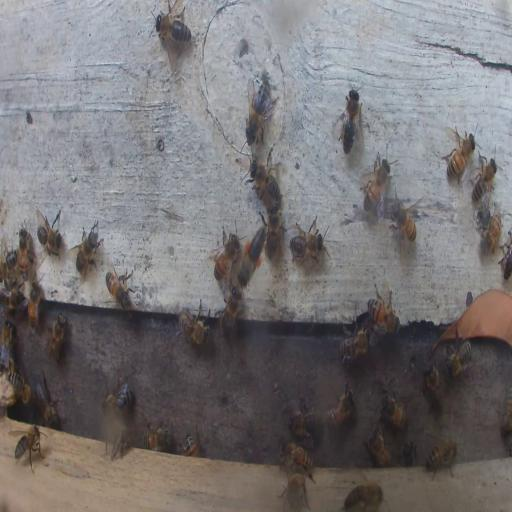nonpollenbee: (362, 150, 394, 216), (443, 126, 477, 185), (245, 78, 274, 144), (73, 219, 103, 280), (288, 216, 325, 263), (155, 4, 191, 52), (246, 153, 280, 202), (339, 88, 364, 152), (210, 227, 240, 280), (470, 153, 497, 209), (35, 208, 64, 259), (390, 195, 419, 245), (14, 424, 43, 472), (178, 302, 210, 345), (343, 480, 386, 510), (424, 439, 457, 477), (327, 384, 355, 428), (288, 402, 320, 440), (105, 266, 133, 309), (102, 375, 133, 413), (264, 202, 283, 262), (340, 326, 370, 363), (276, 443, 314, 472), (366, 426, 392, 468), (368, 298, 398, 334), (37, 378, 58, 428), (380, 390, 406, 429), (479, 210, 502, 254), (7, 363, 31, 404), (48, 313, 68, 362), (444, 343, 472, 376), (222, 286, 242, 332), (424, 363, 444, 408), (282, 474, 306, 510), (26, 279, 42, 330), (17, 226, 32, 278), (143, 426, 172, 450), (500, 383, 512, 440), (0, 286, 24, 312), (106, 434, 134, 456), (1, 320, 15, 359), (2, 246, 17, 282), (182, 431, 200, 457), (400, 440, 418, 466)
pollenbee: (237, 228, 266, 292)
